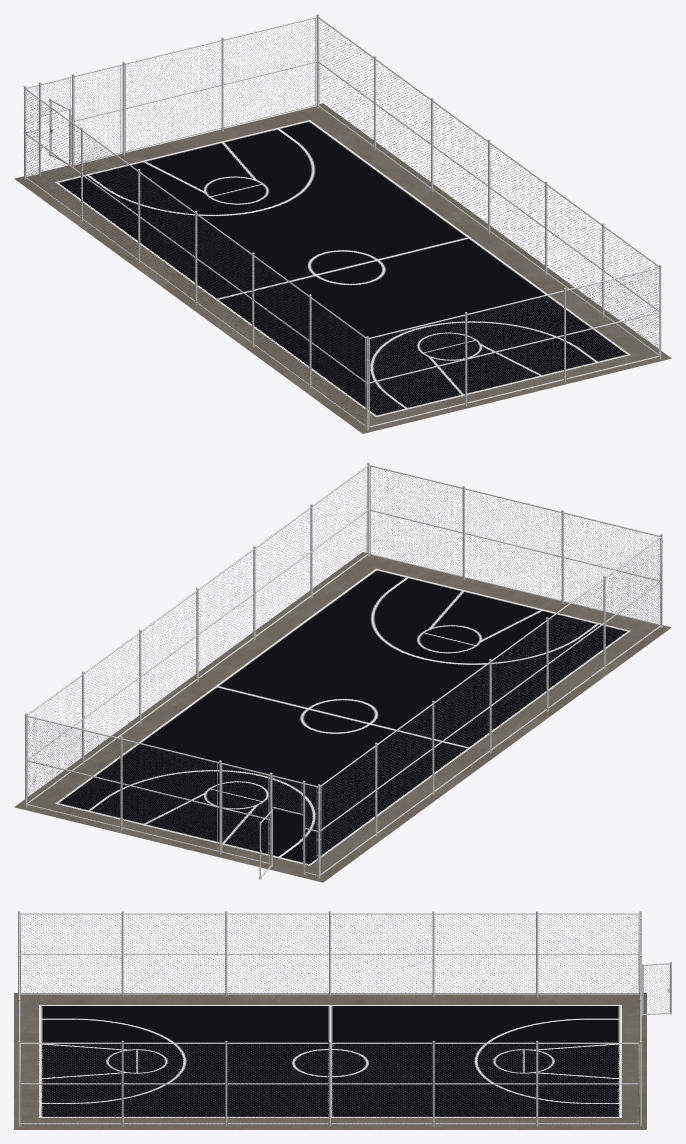
The model's file is court.fbx.
The picture shows the model from 3 angles, top to bottom: view 1: azimuth 30°, elevation 25°; view 2: azimuth 150°, elevation 25°; view 3: azimuth 270°, elevation 25°; orthographic projection. The views are drawn at different scales.
Visible parts, largest first — view 1: Plane.030, Fence_Side, Fence_Side.001, Fence_Front, Fence_Back; view 2: Plane.030, Fence_Side, Fence_Side.001, Fence_Front, Fence_Back; view 3: Plane.030, Fence_Side, Fence_Side.001, Fence_Front_Door, Fence_Back, Fence_Front.
Boxes of the visible parts, x1,y1,x2,y2 form: Plane.030: (14,103,671,433); Fence_Side: (24,88,366,427); Fence_Side.001: (318,17,659,355); Fence_Front: (23,14,319,179); Fence_Back: (365,264,661,430); Plane.030: (14,552,671,882); Fence_Side: (320,536,661,875); Fence_Side.001: (27,465,368,803); Fence_Front: (25,713,320,878); Fence_Back: (366,462,662,627); Plane.030: (14,993,646,1129); Fence_Side: (20,911,639,996); Fence_Side.001: (20,1041,639,1126); Fence_Front_Door: (642,961,671,1016); Fence_Back: (18,911,20,1126); Fence_Front: (639,911,641,1126).
Bounding box in the file's own units: 1347 × 390 × 2737.
